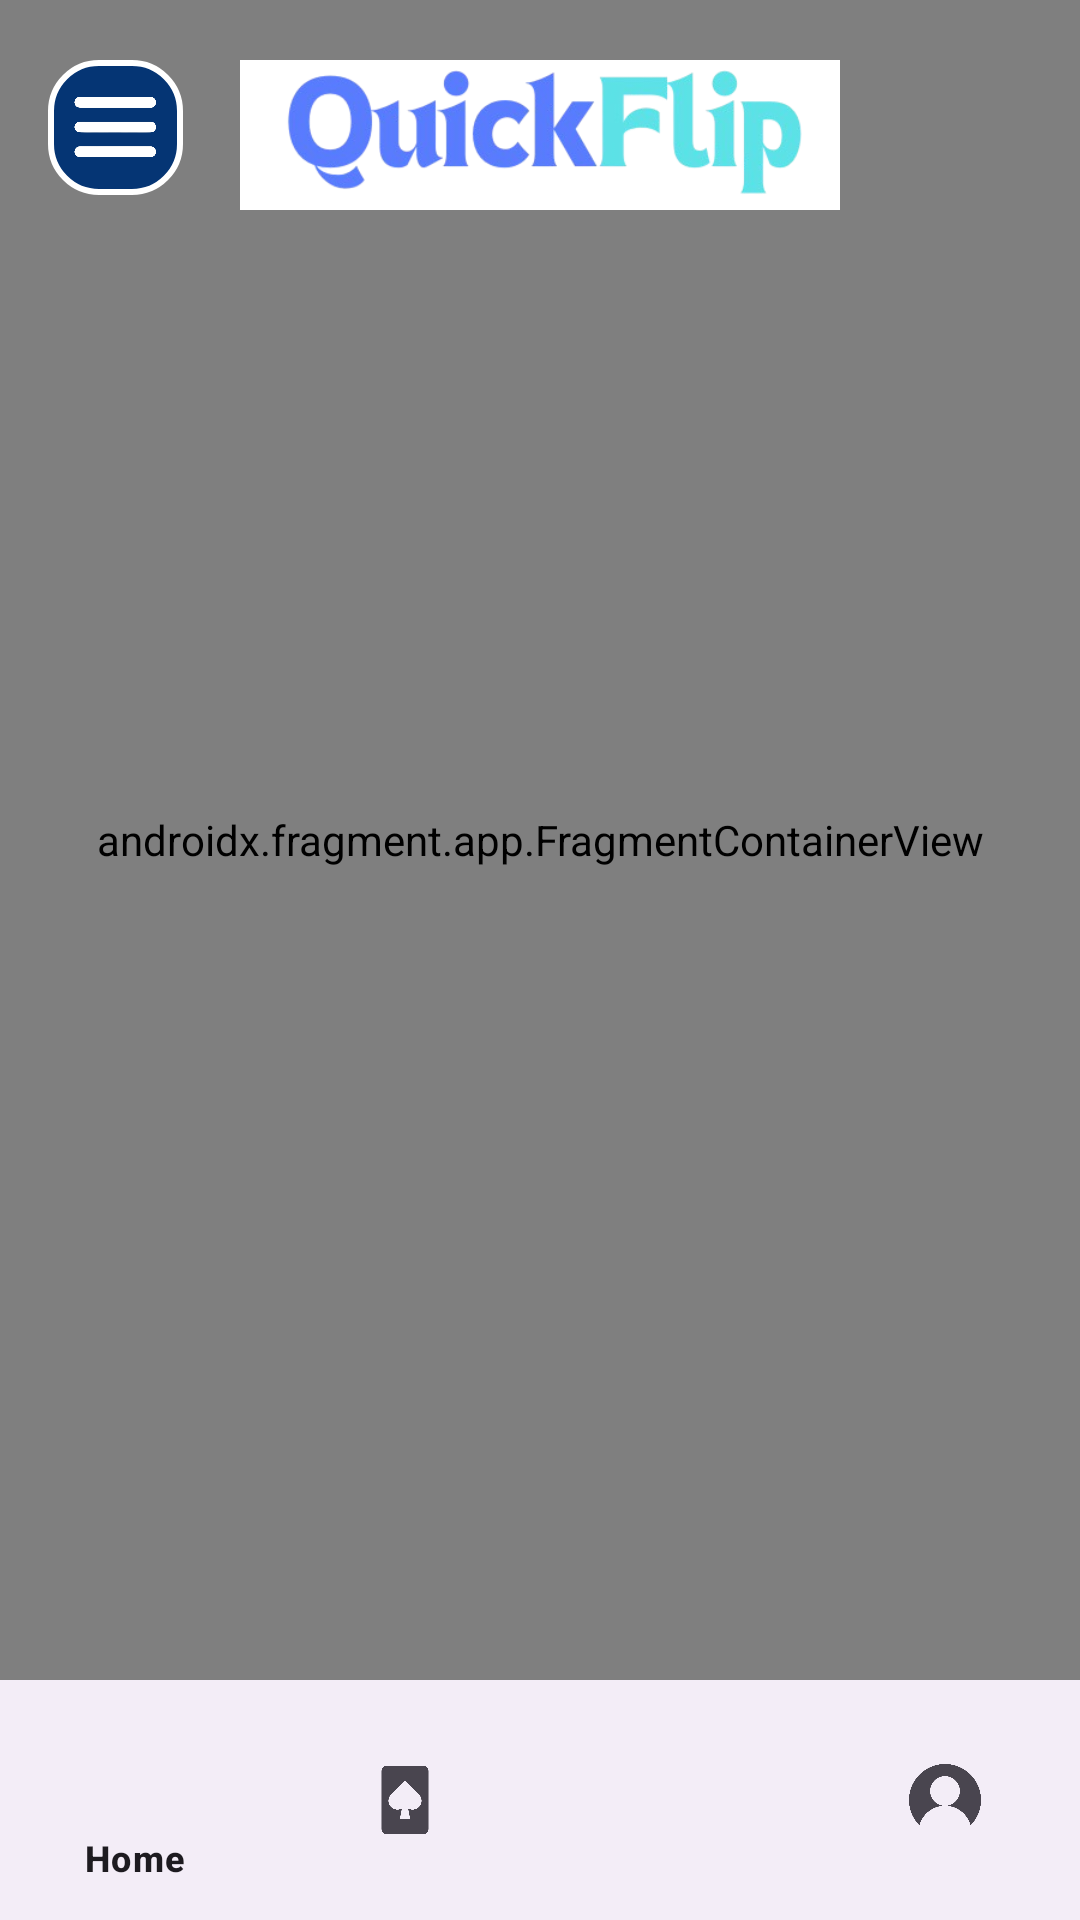

Screen size 1080w x 1920h. Icon name, then its box in pixels as [x1=x1, y1=y1, x2=x2, y2=y2]:
Drawer: [x1=48, y1=60, x2=183, y2=195]
